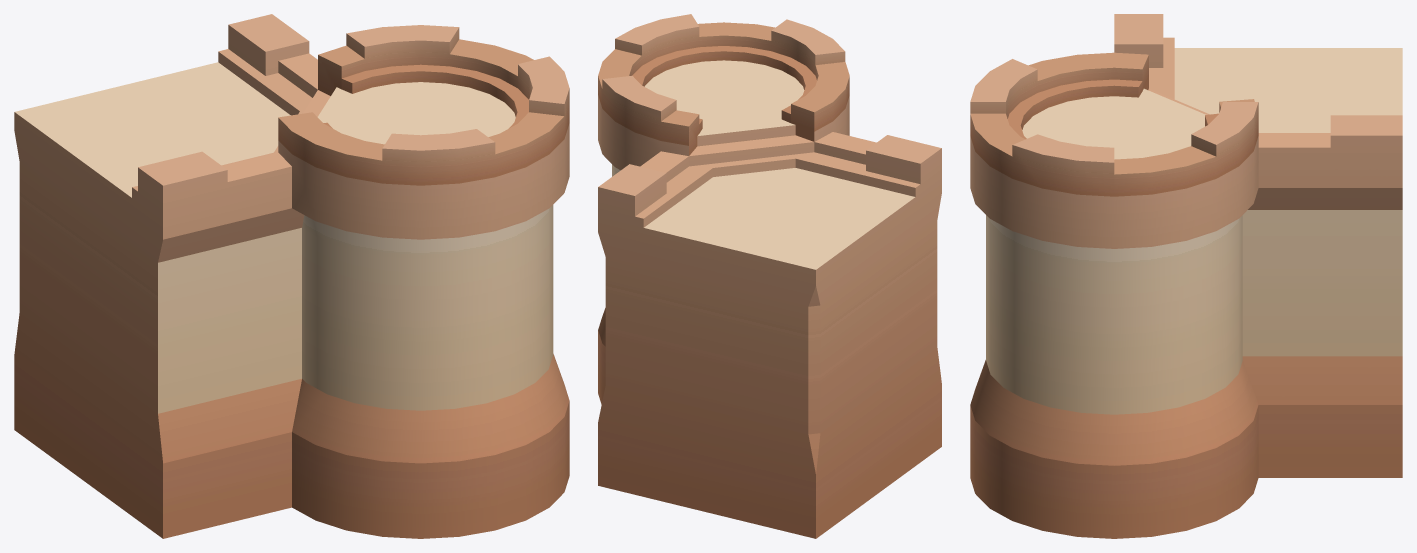
File: wall-corner-half-tower.glb
The picture shows the model from 3 angles, left to right: view 1: azimuth 30°, elevation 25°; view 2: azimuth 150°, elevation 25°; view 3: azimuth 270°, elevation 25°; orthographic projection. The views are drawn at different scales.
Parts seen in each view (by area): view 1: wall-corner-half-tower; view 2: wall-corner-half-tower; view 3: wall-corner-half-tower.
Part boxes in pixels (x1,y1,x2,y2): wall-corner-half-tower: [14, 14, 569, 538]; wall-corner-half-tower: [598, 14, 941, 538]; wall-corner-half-tower: [970, 14, 1402, 538].
Bounding box in the file's own units: 1.5 × 1.44 × 1.5.
Materials: 1 (1 with a texture image).
